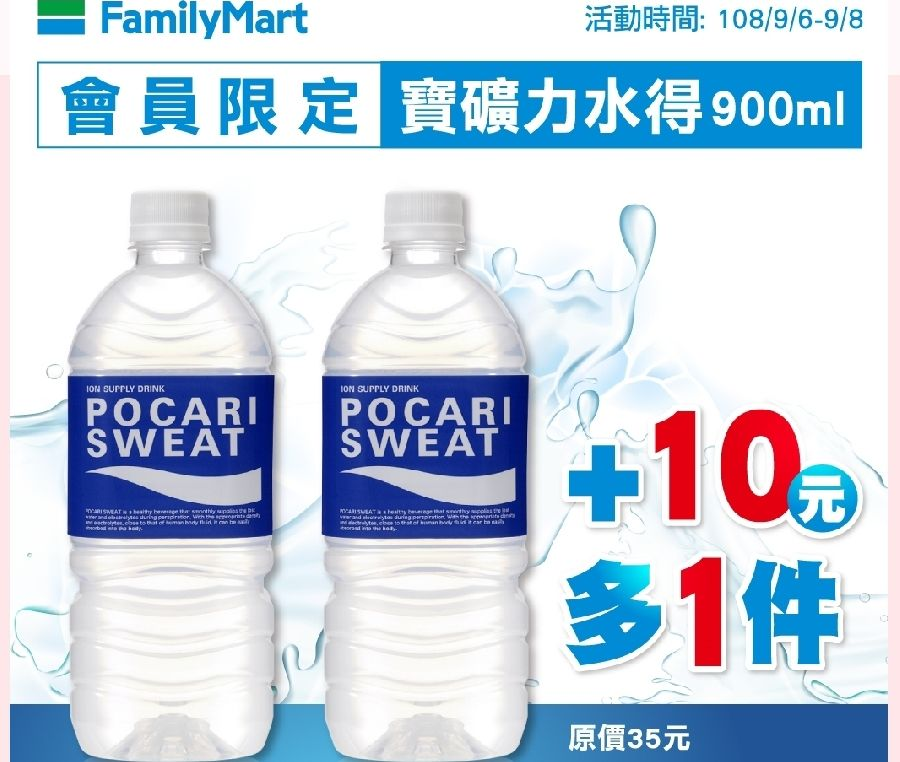POCARI SWEAT: (74, 188, 283, 760), (313, 186, 522, 758)
